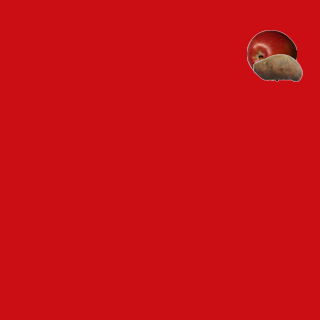Apple Braeburn: (246, 29, 296, 79)
Potato Sweet: (252, 42, 302, 92)
